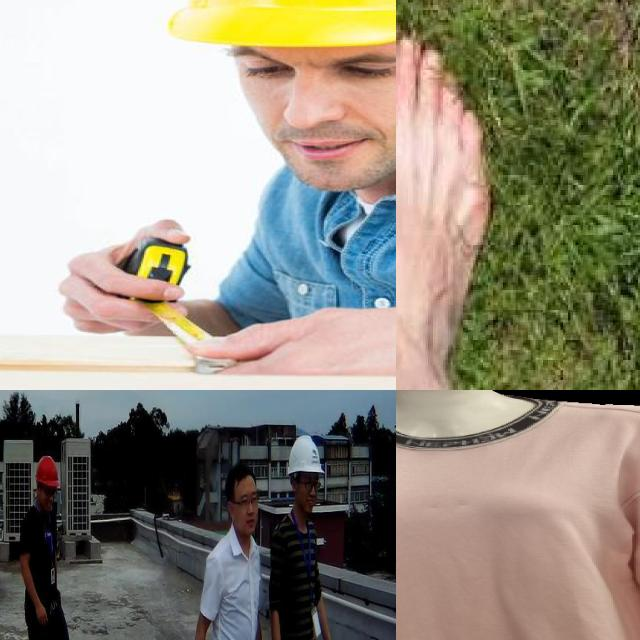Barefoots: (396, 17, 537, 390)
No_Ear-Protection: (219, 453, 260, 537), (284, 430, 322, 520), (30, 454, 62, 520)
No_Glasses: (232, 44, 396, 86)
face_nomask: (240, 86, 396, 190)
hand_noglove: (60, 220, 185, 334), (192, 308, 396, 374)
head_helmet: (169, 0, 396, 47)
